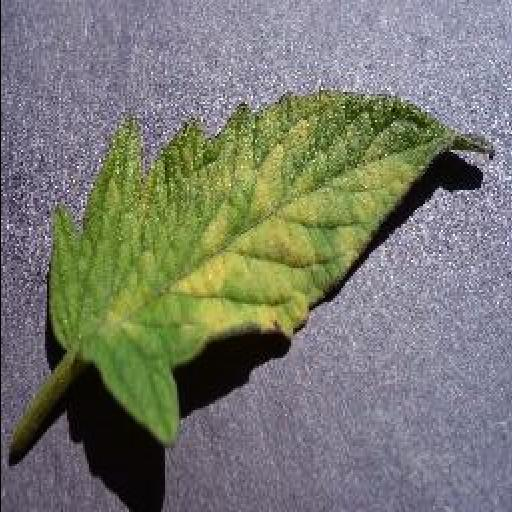disease_tomato: (48, 90, 498, 446)
